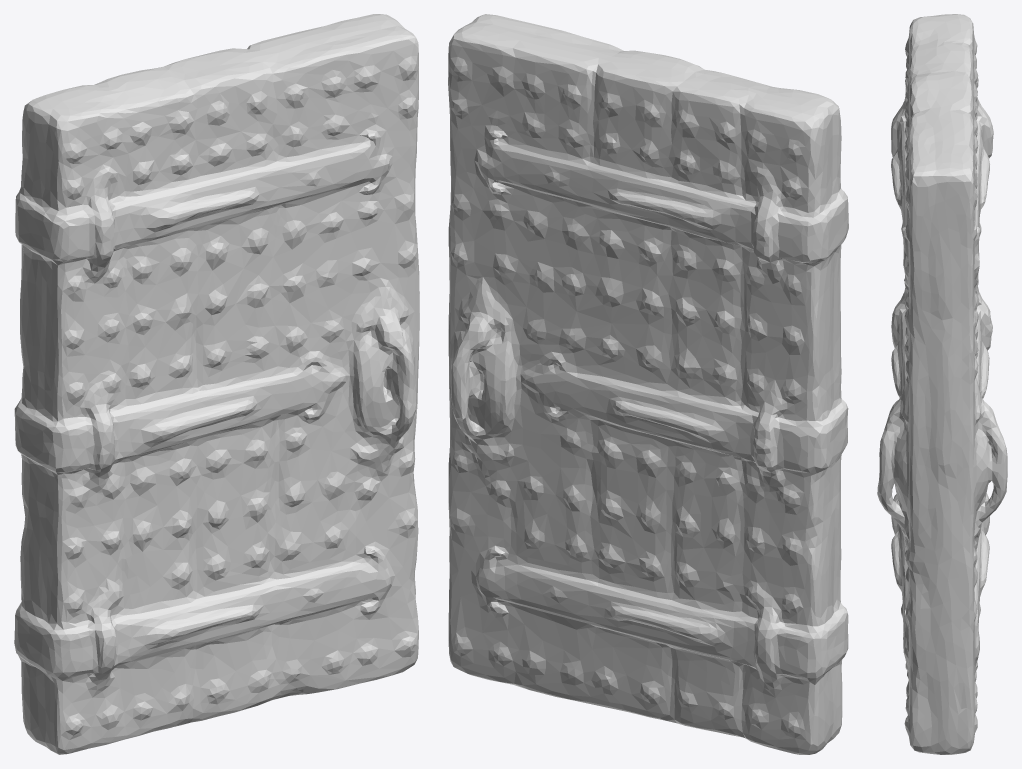
The model's file is orn_door01.glb.
3 views of the same model, side by side, from view 1: azimuth 30°, elevation 25°; view 2: azimuth 150°, elevation 25°; view 3: azimuth 270°, elevation 25° (orthographic). The views are drawn at different scales.
Parts seen in each view (by area): view 1: Low; view 2: Low; view 3: Low.
Part boxes in pixels (x1,y1,x2,y2): Low: [14, 14, 419, 754]; Low: [448, 14, 848, 754]; Low: [877, 14, 1007, 754].
Bounding box in the file's own units: 1.23 × 1.99 × 0.4.
Materials: 1 (1 with a texture image).
